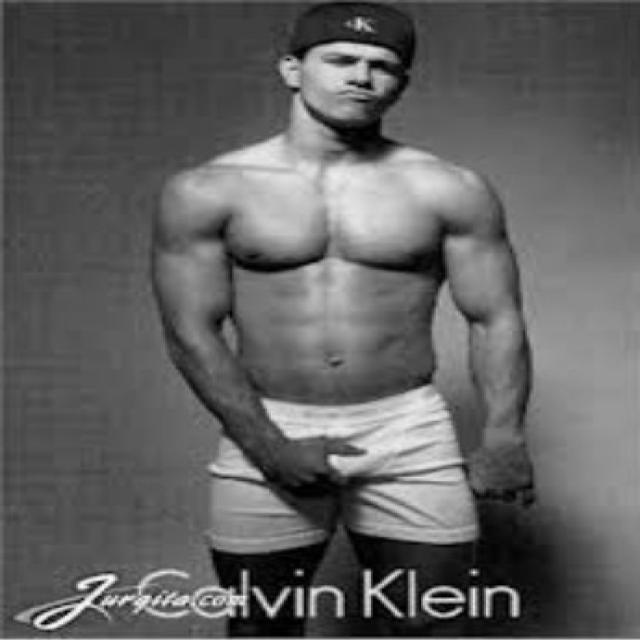mobile_phonerotation: (146, 0, 540, 636)
